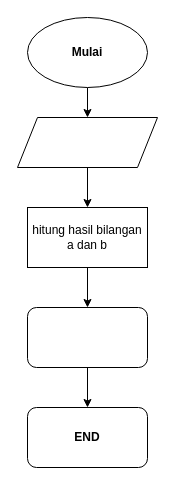
This 175x485 diagram has some shape labels left out. Here are the shapes that lost their labels. From the top down, the centre of each, then its label:
At point (87, 142): "input bilangan a dan b".
At point (87, 337): "Cetak hasil".
